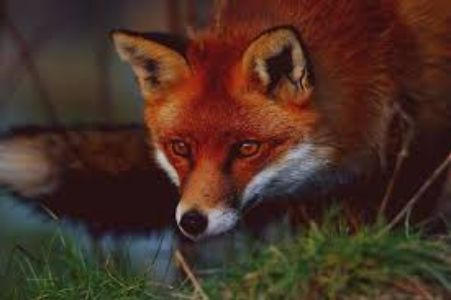fox: (98, 16, 431, 237)
